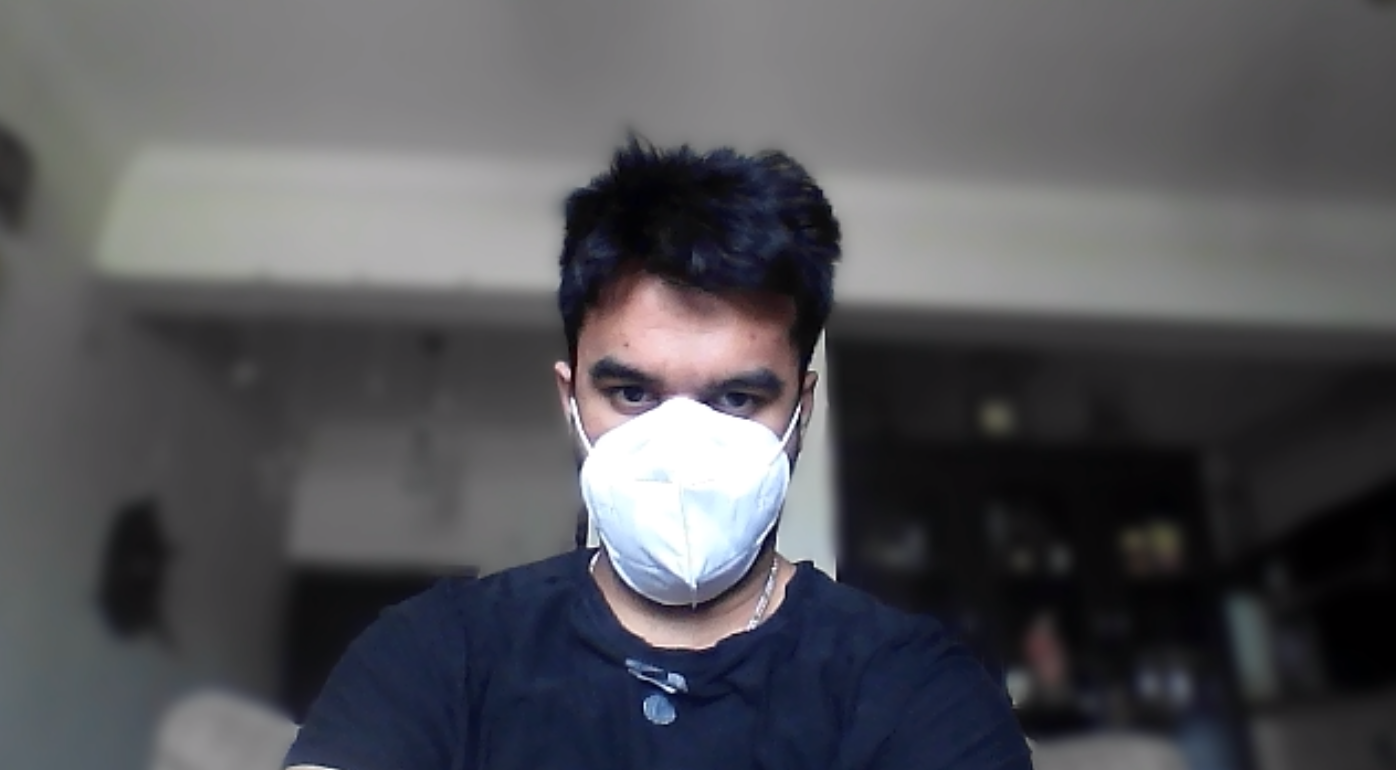Mask: (567, 397, 805, 610)
